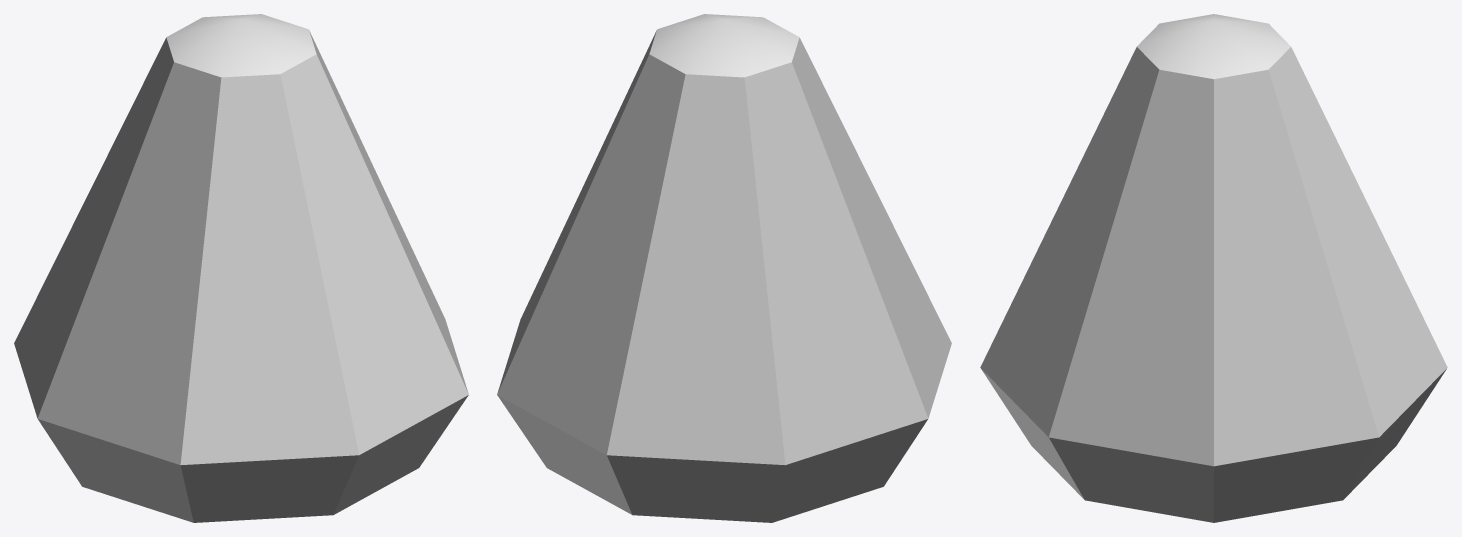
File: Noise.gltf
3 renders of one model, left to right at view 1: azimuth 30°, elevation 25°; view 2: azimuth 150°, elevation 25°; view 3: azimuth 270°, elevation 25°, orthographic.
Visible parts, largest first — view 1: SM_Veh_Rocket_19.001; view 2: SM_Veh_Rocket_19.001; view 3: SM_Veh_Rocket_19.001.
Boxes of the visible parts, x1,y1,x2,y2 form: SM_Veh_Rocket_19.001: (14,14,468,522); SM_Veh_Rocket_19.001: (497,14,951,522); SM_Veh_Rocket_19.001: (980,14,1447,522).
Size of the model in its own units: 1.72 by 1.73 by 1.72.
Materials: 1 (1 with a texture image).
